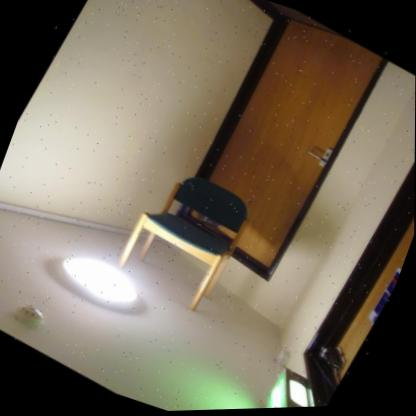Chair: (96, 137, 298, 340)
